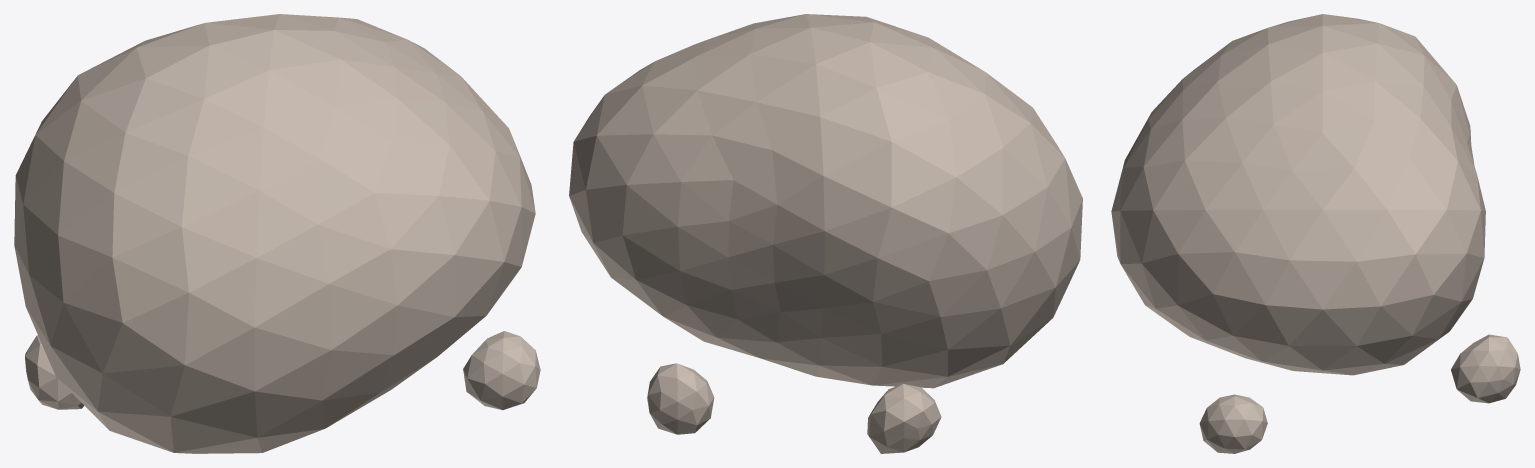
File: Boulder.glb
3 views of the same model, side by side, from view 1: azimuth 30°, elevation 25°; view 2: azimuth 150°, elevation 25°; view 3: azimuth 270°, elevation 25° (orthographic). The views are drawn at different scales.
Visible parts, largest first — view 1: Rock; view 2: Rock; view 3: Rock.
Part boxes in pixels (left/top/right/bottom): Rock: left=14, top=14, right=540, bottom=453; Rock: left=569, top=14, right=1082, bottom=453; Rock: left=1111, top=14, right=1520, bottom=453.
Bounding box in the file's own units: 9.76 × 7.41 × 8.37.
